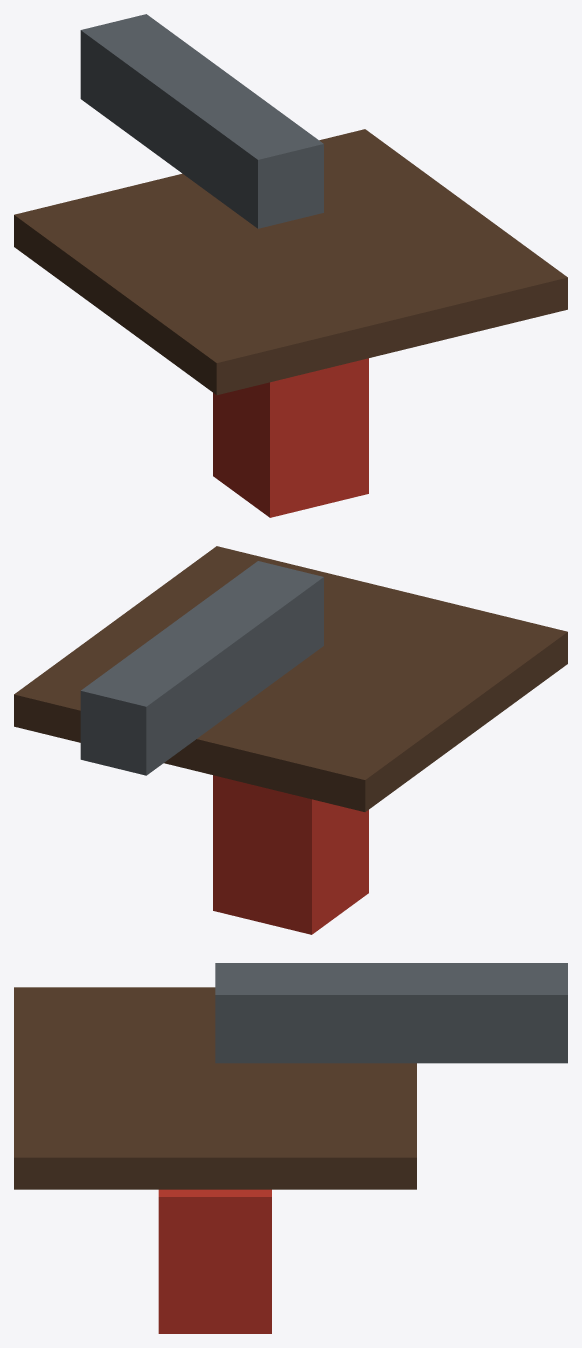
File: SpeedBag.fbx
3 renders of one model, top to bottom at view 1: azimuth 30°, elevation 25°; view 2: azimuth 150°, elevation 25°; view 3: azimuth 270°, elevation 25°, orthographic.
Parts seen in each view (by area): view 1: SpeedBag_Mesh, SpeedBag_Ball; view 2: SpeedBag_Mesh, SpeedBag_Ball; view 3: SpeedBag_Mesh, SpeedBag_Ball.
Boxes of the visible parts, x1,y1,x2,y2 form: SpeedBag_Mesh: (14, 14, 567, 395); SpeedBag_Ball: (213, 358, 368, 517); SpeedBag_Mesh: (14, 546, 567, 811); SpeedBag_Ball: (213, 775, 368, 934); SpeedBag_Mesh: (14, 963, 567, 1189); SpeedBag_Ball: (158, 1189, 271, 1333).
Bounding box in the file's own units: 1.6 × 1.45 × 2.2.
1 material, 1 textured.
